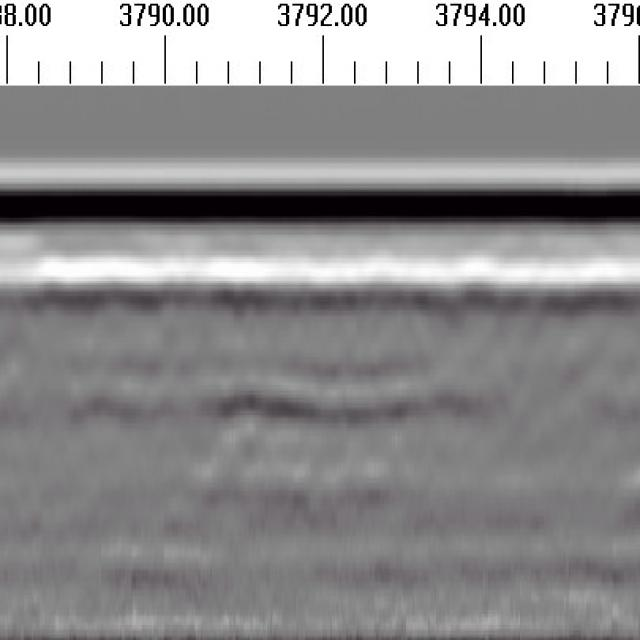loose: (200, 368, 478, 433)
